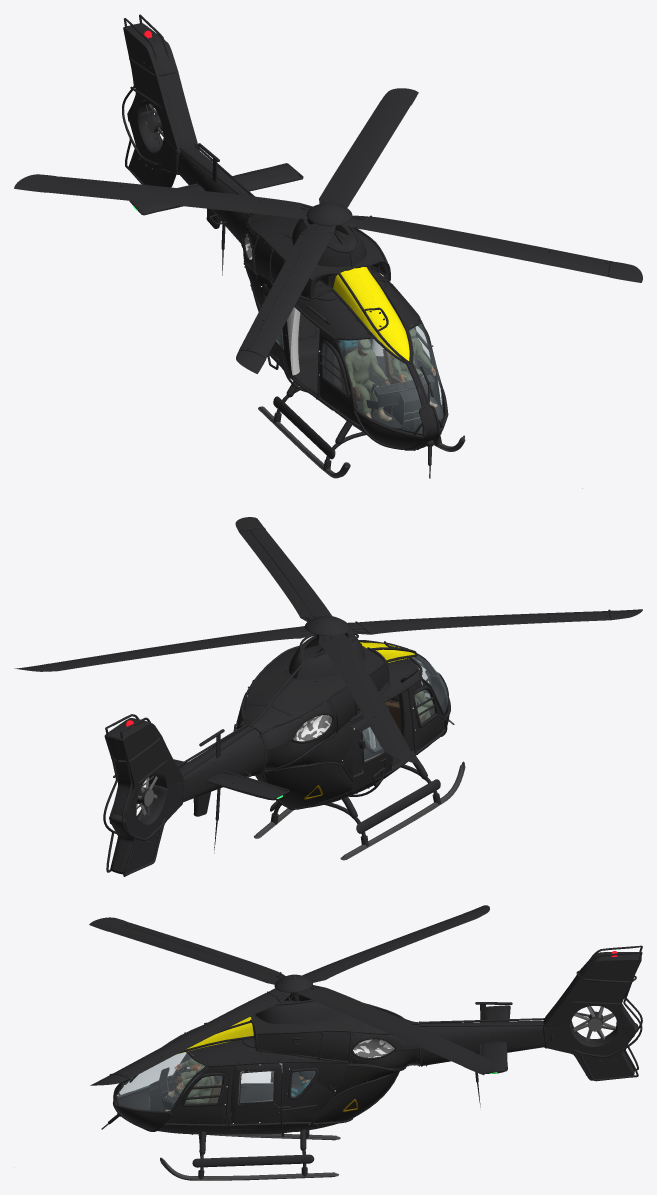
3 views of the same model, one above another, from view 1: azimuth 30°, elevation 25°; view 2: azimuth 150°, elevation 25°; view 3: azimuth 270°, elevation 25° (orthographic). The views are drawn at different scales.
Parts seen in each view (by area): view 1: body, rotor, pilot, copilot; view 2: body, rotor; view 3: body, rotor, copilot.
Boxes of the visible parts, x1,y1,x2,y2 form: body: [122, 14, 582, 488]; rotor: [14, 88, 642, 373]; pilot: [344, 339, 392, 421]; copilot: [390, 328, 437, 407]; body: [103, 633, 465, 876]; rotor: [14, 517, 642, 764]; body: [101, 945, 642, 1180]; rotor: [89, 905, 512, 1085]; copilot: [165, 1058, 214, 1111].
Bounding box in the file's own units: 7.25 × 4.31 × 11.51.
21 materials, 7 textured.
